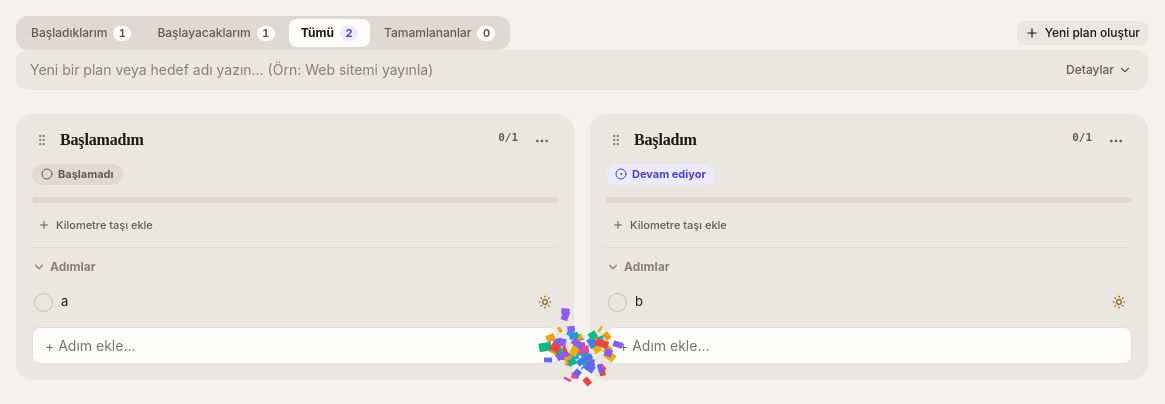
it: the plans page › counts each stage on its own tab, and filters to it
Expected: the 1st text "1" is shown, [113,26,131,40]
Expected: the 2nd text "1" is shown, [257,26,275,40]
Click the tab "Başladıklarım 1".
click(81, 33)  # box [19,19,143,47]
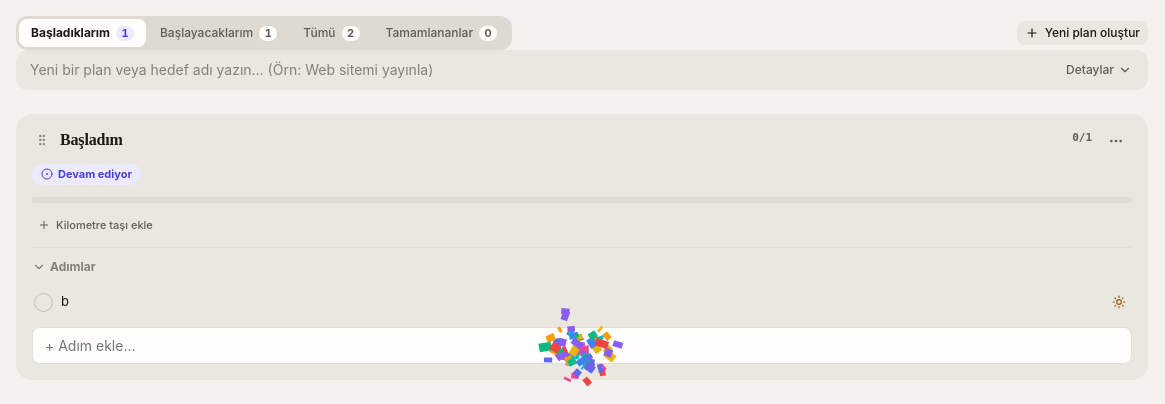
Expected: the heading "Başladım" is shown, [60,131,123,148]
Now the heading "Başlamadım" is gone
